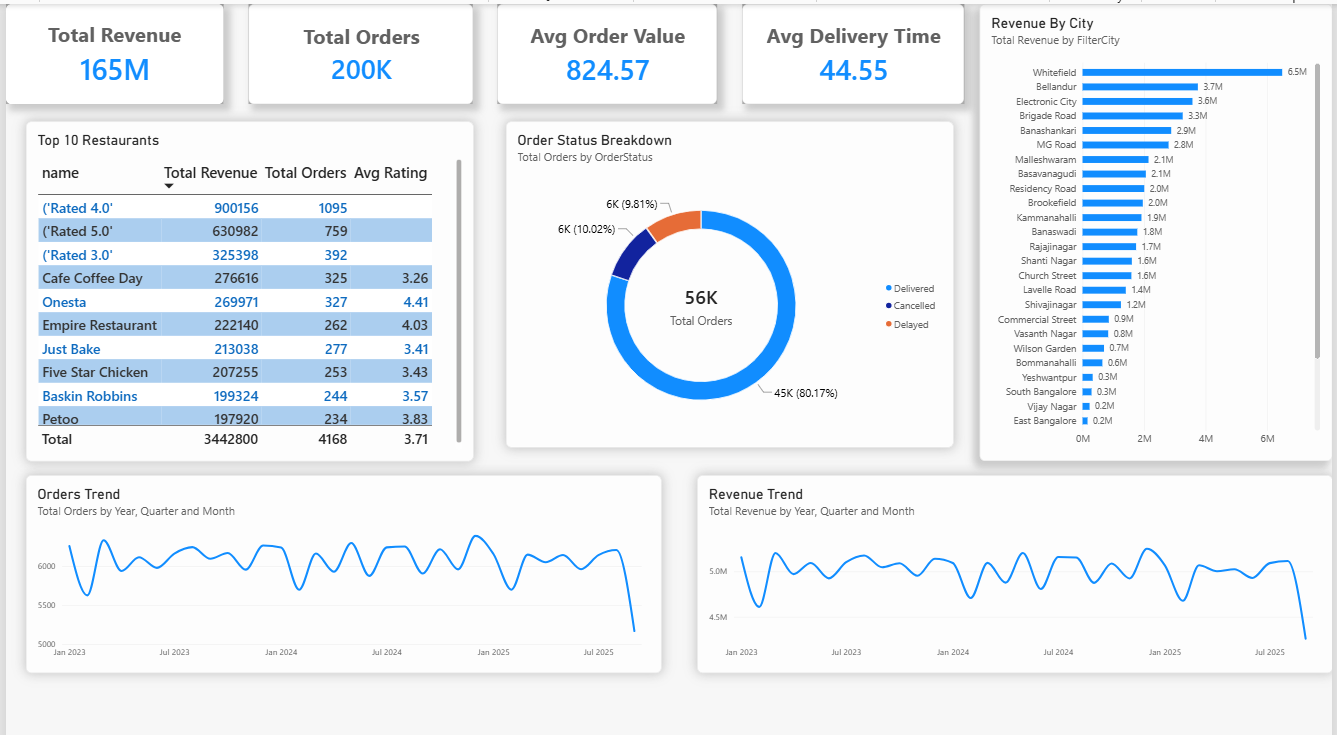

What the dashboard file says about the page in this screenshot:
{"tool":"powerbi","page":{"name":"Executive Summarry","canvas":[1920,1080],"ordinal":0},"visuals":[{"type":"cardVisual","fields":{"Data":["Orders.Total Revenue"]},"box":[0,0,315,145],"z":0},{"type":"cardVisual","fields":{"Data":["Orders.Avg Order Value"]},"box":[711.7,0,318.3,145],"z":1000},{"type":"cardVisual","fields":{"Data":["Orders.Avg Delivery Time"]},"box":[1065,0,321.7,145],"z":2000},{"type":"cardVisual","fields":{"Data":["Orders.Total Orders"]},"box":[351.7,0,325,145],"z":3000},{"type":"lineChart","title":"Revenue Trend","fields":{"Category":["DateTable.Date.Variation.Date Hierarchy.Year","DateTable.Date.Variation.Date Hierarchy.Quarter","DateTable.Date.Variation.Date Hierarchy.Month"],"Y":["Orders.Total Revenue"]},"box":[1000,681.7,920,286.7],"z":4000},{"type":"lineChart","title":"Orders Trend","fields":{"Category":["DateTable.Date.Variation.Date Hierarchy.Year","DateTable.Date.Variation.Date Hierarchy.Quarter","DateTable.Date.Variation.Date Hierarchy.Month"],"Y":["Orders.Total Orders"]},"box":[28.3,681.7,920,286.7],"z":5000},{"type":"barChart","title":"Revenue By City","fields":{"Category":["Customers.FilterCity"],"Y":["Orders.Total Revenue"]},"box":[1410,0,510,661.7],"z":6000},{"type":"donutChart","title":"Order Status Breakdown","fields":{"Category":["Orders.OrderStatus"],"Y":["Orders.Total Orders"]},"box":[723.3,170,648.3,471.7],"z":7000},{"type":"tableEx","title":"Top 10 Restaurants","fields":{"Values":["Restaurants.name","Orders.Total Revenue","Orders.Total Orders","Orders.Avg Rating"]},"box":[28.3,170,648.3,491.7],"z":8000}]}

Visuals, with their boxes in screenshot pixels (x1, y1, x2, y2), scaled from the page's 1920x1080 canvas onto the 1337x735 screenshot:
cardVisual - Orders.Total Revenue: 0/0/219/99
cardVisual - Orders.Avg Order Value: 496/0/717/99
cardVisual - Orders.Avg Delivery Time: 742/0/966/99
cardVisual - Orders.Total Orders: 245/0/471/99
"Revenue Trend" lineChart: 696/464/1336/659
"Orders Trend" lineChart: 20/464/660/659
"Revenue By City" barChart: 982/0/1336/450
"Order Status Breakdown" donutChart: 504/116/955/437
"Top 10 Restaurants" tableEx: 20/116/471/450
